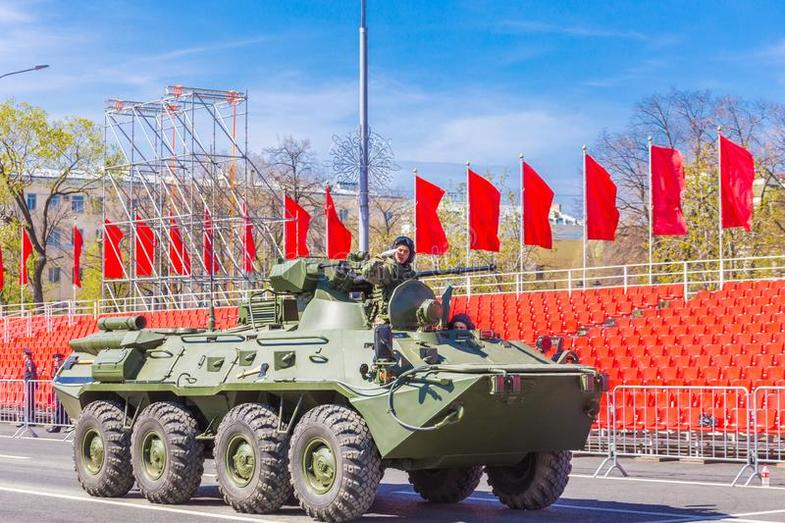btr: (52, 297, 596, 517)
